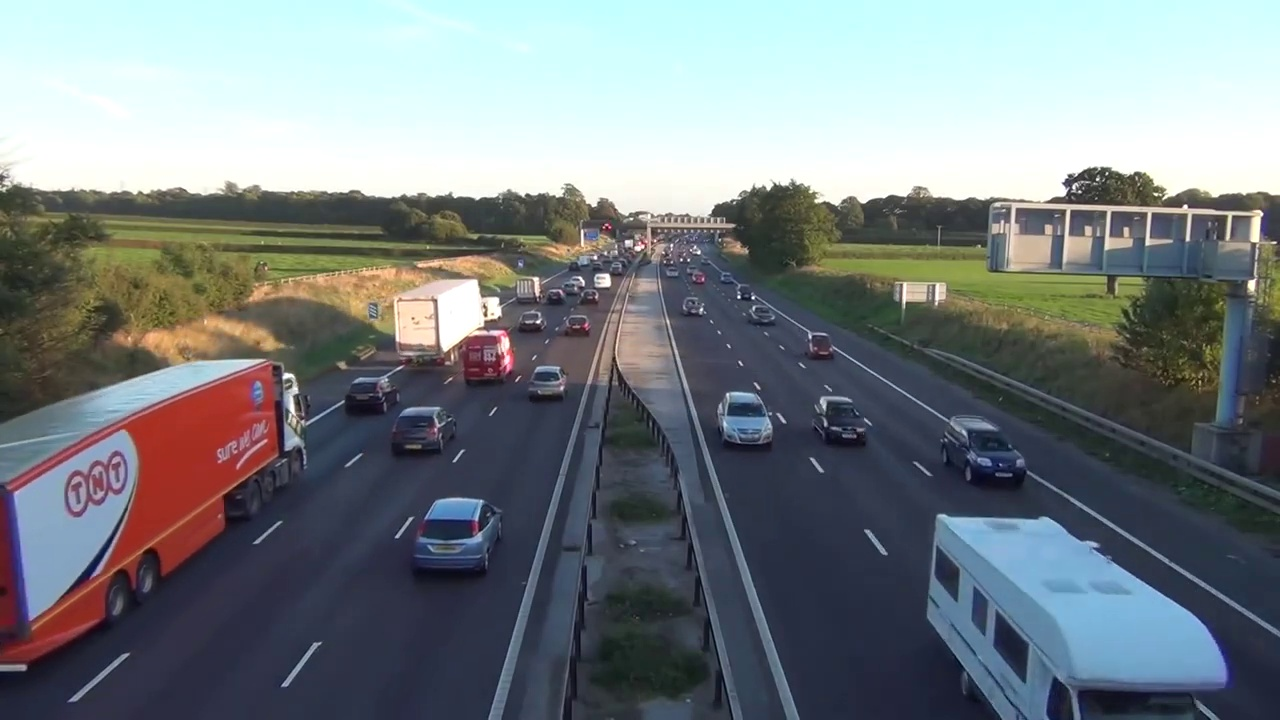bus: (415, 497, 505, 584), (939, 414, 1028, 488), (390, 404, 460, 455), (717, 392, 776, 452), (814, 394, 872, 448), (344, 374, 399, 416), (528, 366, 566, 401), (805, 333, 833, 364), (519, 309, 550, 333), (679, 296, 709, 316), (747, 305, 775, 326), (564, 315, 591, 336), (736, 283, 756, 302), (546, 288, 566, 304), (581, 290, 600, 302)
car: (0, 359, 308, 698), (395, 279, 478, 369), (515, 275, 547, 302)
lorry: (480, 296, 503, 327)
minibus: (927, 512, 1229, 720), (467, 328, 516, 386)
